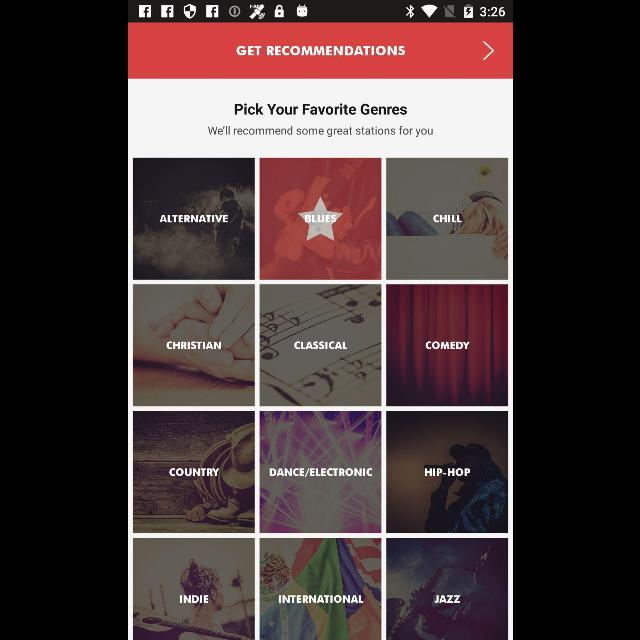icon: (482, 41, 494, 61)
image: (386, 412, 508, 534), (132, 411, 254, 533), (386, 284, 508, 406), (385, 158, 507, 280), (259, 158, 381, 280), (132, 158, 254, 280), (260, 411, 380, 533), (132, 286, 254, 406), (260, 286, 380, 406), (386, 538, 508, 640), (132, 538, 254, 640), (260, 538, 380, 640)
text: (208, 126, 432, 138), (234, 103, 406, 115), (236, 46, 404, 56), (268, 468, 372, 478), (278, 595, 362, 603), (158, 215, 228, 223), (166, 342, 220, 351), (168, 468, 220, 477), (293, 342, 347, 350), (424, 342, 470, 351), (424, 468, 470, 476), (432, 214, 462, 223), (304, 215, 336, 223), (178, 595, 208, 603), (433, 595, 459, 603)
toolbar: (128, 23, 512, 79)
uppertaskbar: (128, 1, 512, 23)
